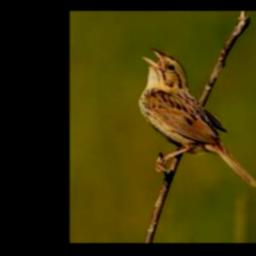Sparrow: (138, 46, 256, 189)
